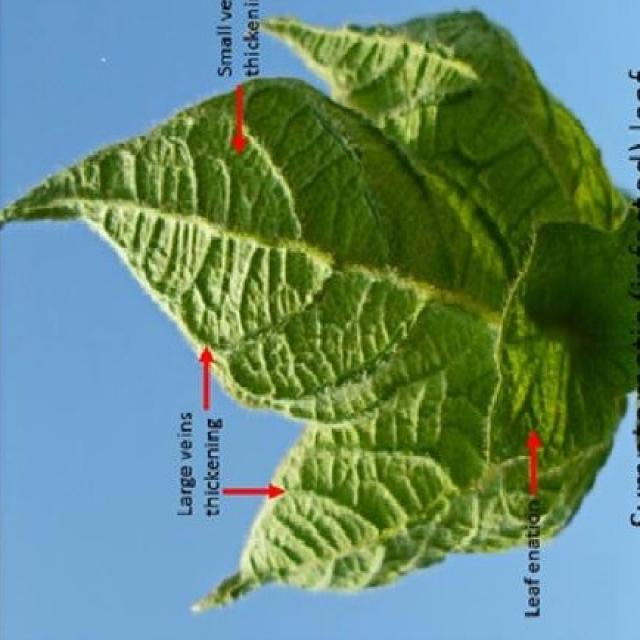Leaf Curl Virus: (199, 121, 626, 454)
